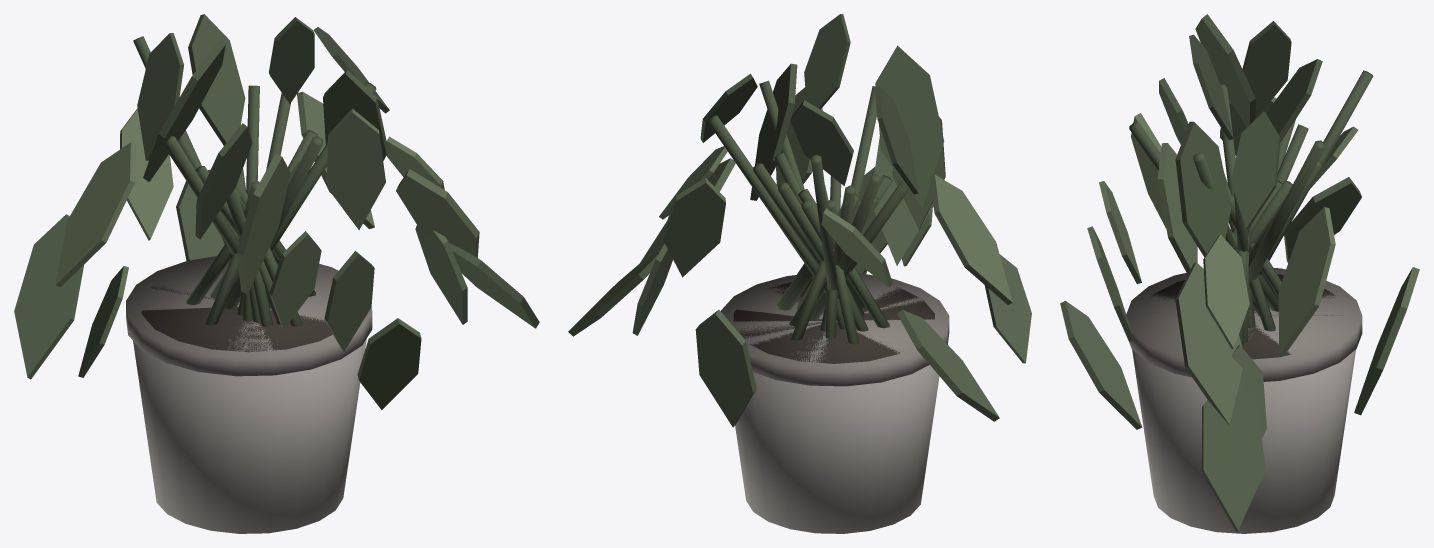
File: plant5.glb
3 renders of one model, left to right at view 1: azimuth 30°, elevation 25°; view 2: azimuth 150°, elevation 25°; view 3: azimuth 270°, elevation 25°, orthographic. The views are drawn at different scales.
Parts seen in each view (by area): view 1: root; view 2: root; view 3: root.
Boxes of the visible parts, x1,y1,x2,y2 form: root: [14, 14, 539, 533]; root: [568, 14, 1031, 533]; root: [1060, 14, 1419, 533].
Bounding box in the file's own units: 0.9417 × 0.9087 × 0.63.
